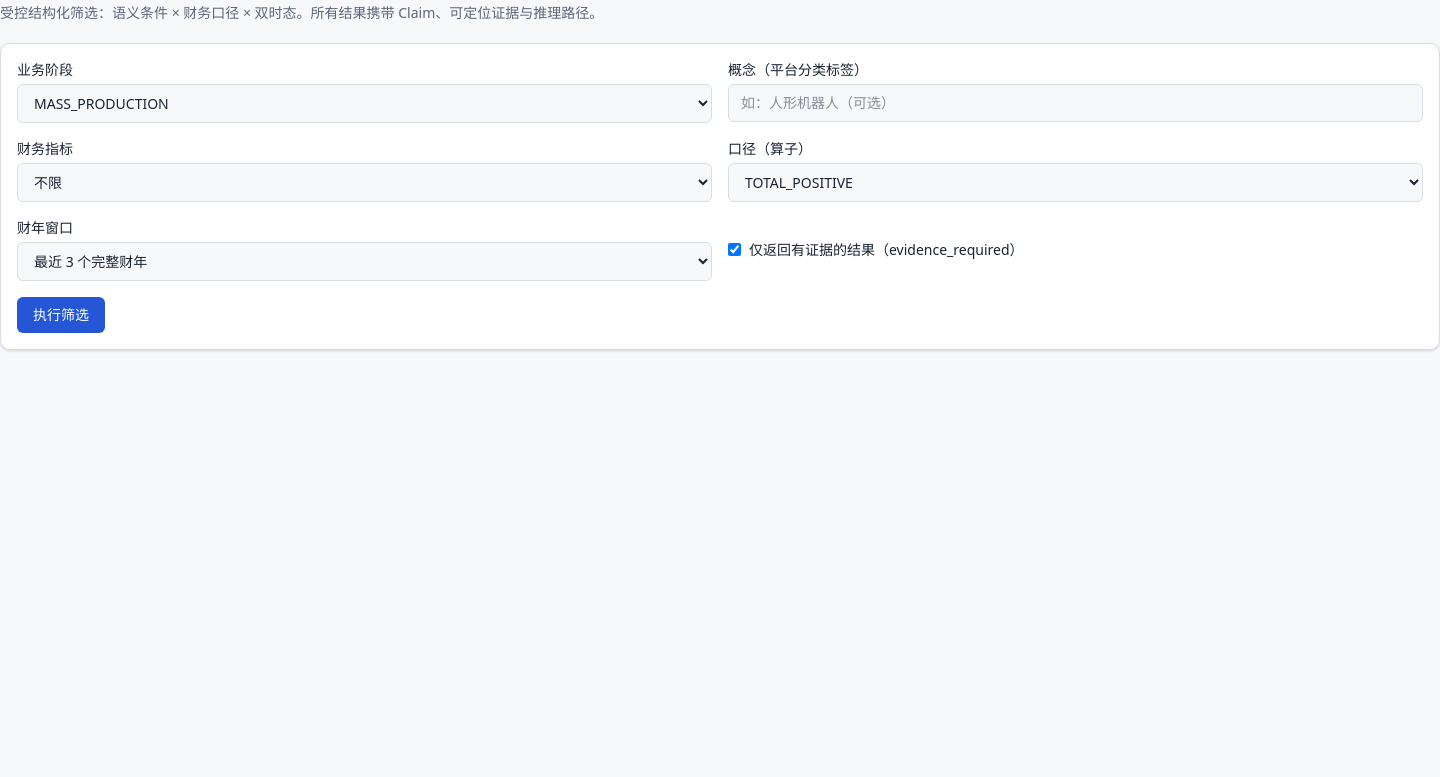
Test: 查询工作台（issue #31 关闭条件） › 黄金筛选：UI 结果/排除/证据/口径与 API 响应逐字段一致
Click the button "执行筛选". click: coordinates (61, 315)
box: [17, 297, 105, 333]
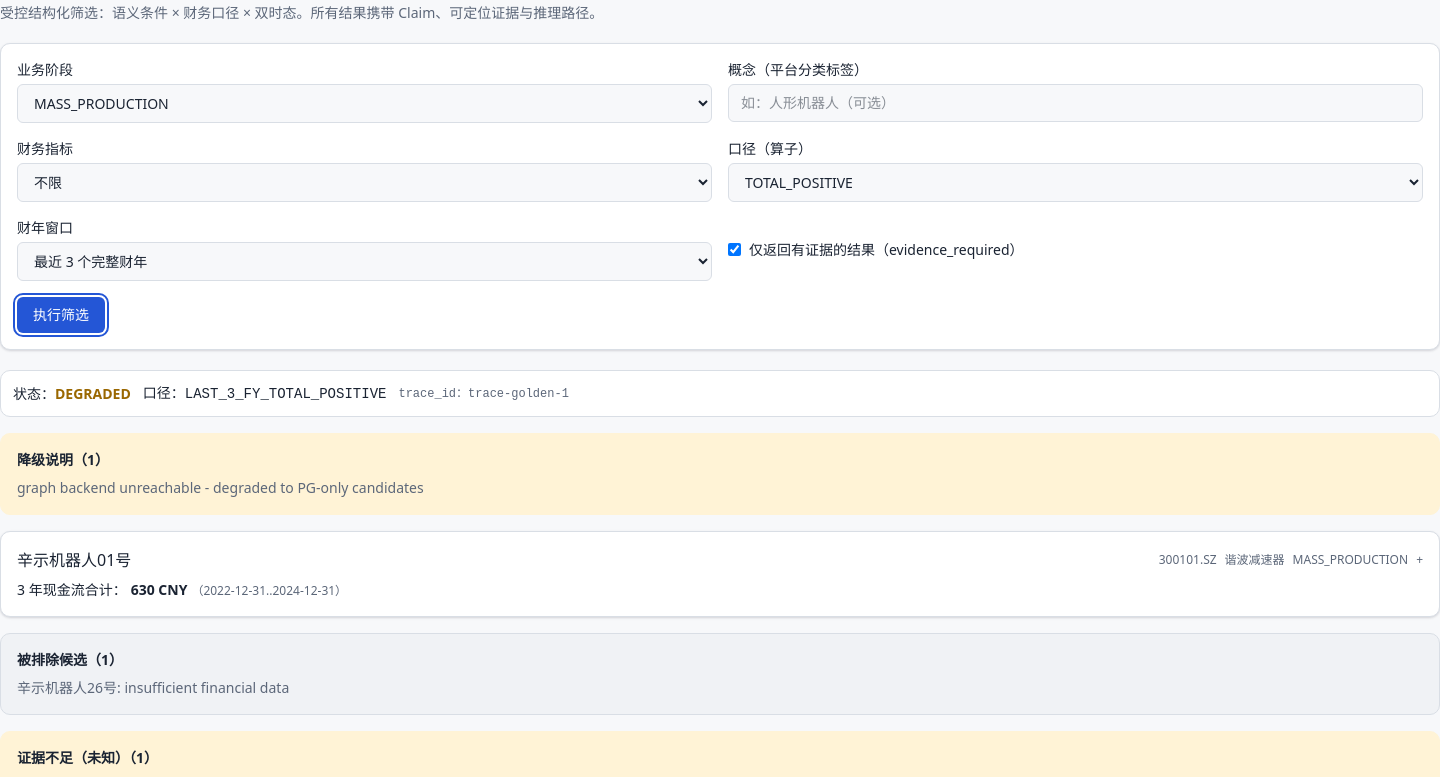
Check: the text "辛示机器人01号" is shown, box [17, 548, 131, 572]
Check: the text "300101.SZ" is shown, box [1159, 552, 1217, 568]
Check: the text "谐波减速器" is shown, box [1225, 552, 1285, 568]
Note: 展开证据包：页码原文 + 推理路径 + 财务明细
Click the button "辛示机器人01号 300101.SZ 谐波减速器 MASS_PRODUCTION +". click: coordinates (74, 560)
box: [17, 548, 1423, 572]
(page scrolled)
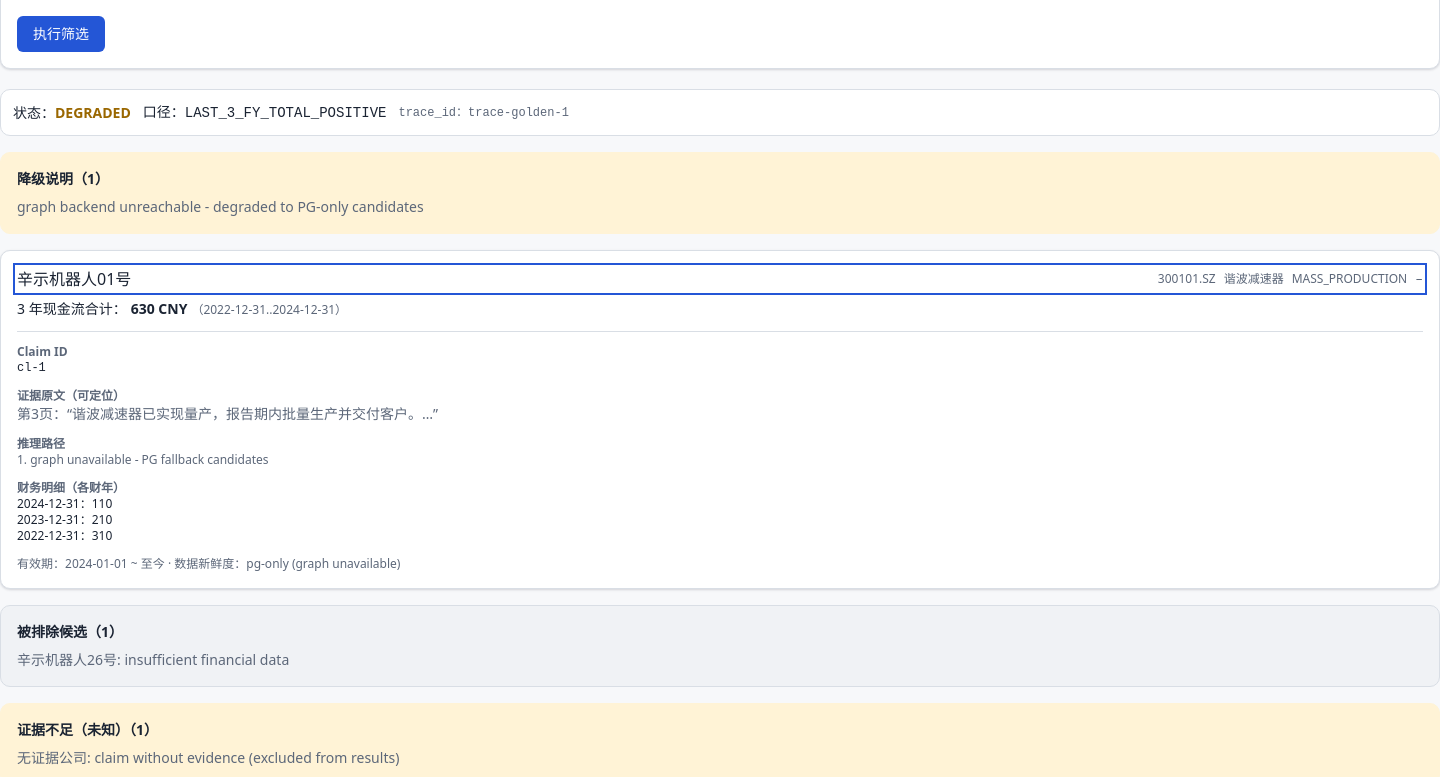
Check: the list item "第3页：“谐波减速器已实现量产，报告期内批量生产并交付客户。…”" is shown, box [17, 404, 438, 423]
Check: the list item "graph unavailable - PG fallback candidates" is shown, box [30, 451, 268, 468]
Check: the list item "2024-12-31：110" is shown, box [17, 495, 112, 512]
